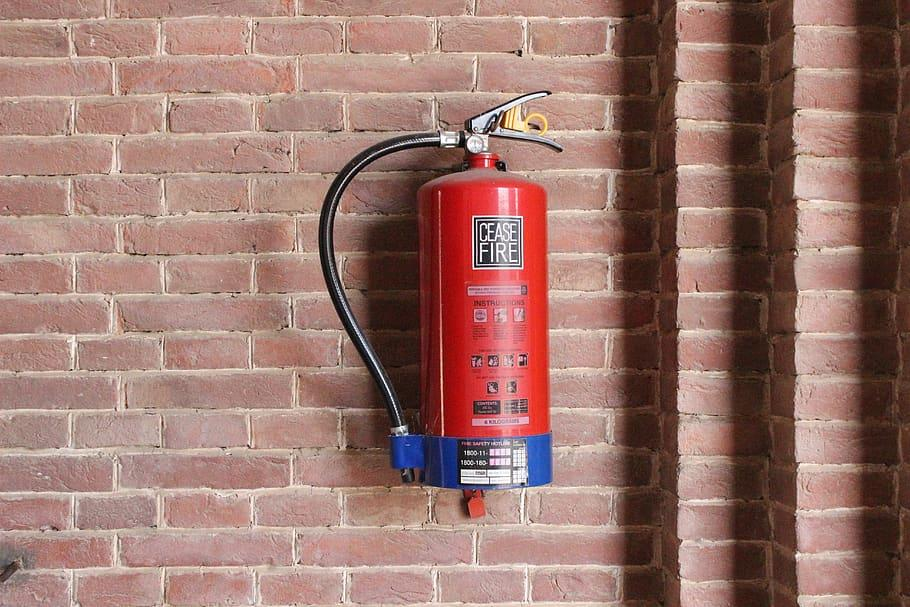Fire Extinguisher: (307, 75, 585, 498)
